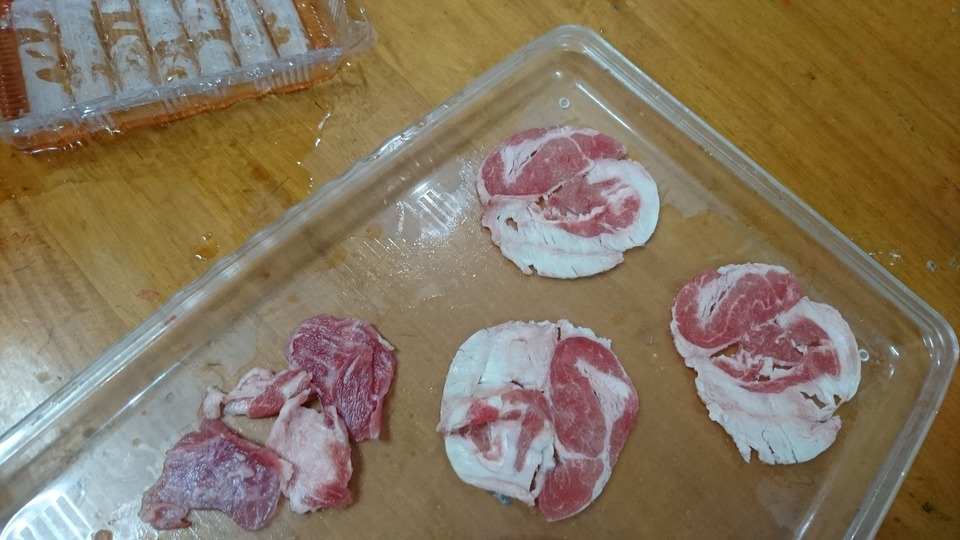restructured meat: (140, 319, 390, 528), (442, 301, 643, 522), (670, 257, 861, 470), (476, 131, 661, 276)
